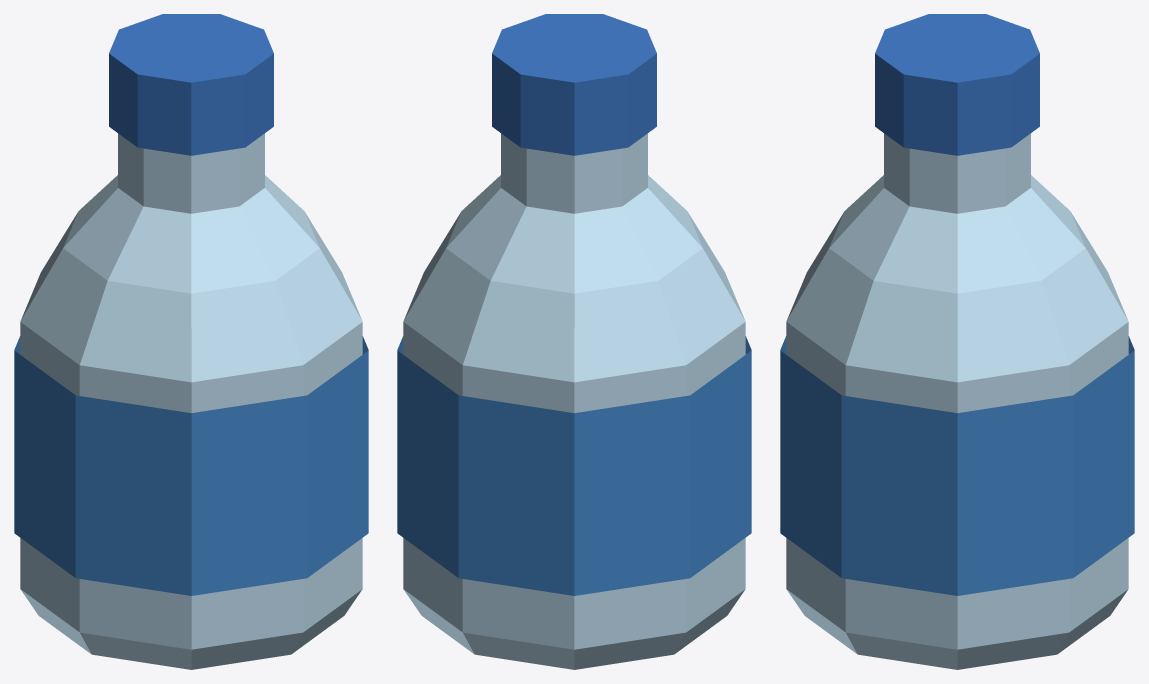
The model's file is Food_Water.obj.
The picture shows the model from 3 angles, left to right: view 1: azimuth 30°, elevation 25°; view 2: azimuth 150°, elevation 25°; view 3: azimuth 270°, elevation 25°; orthographic projection.
Bounding box in the file's own units: 1.12 × 1.98 × 1.14.
